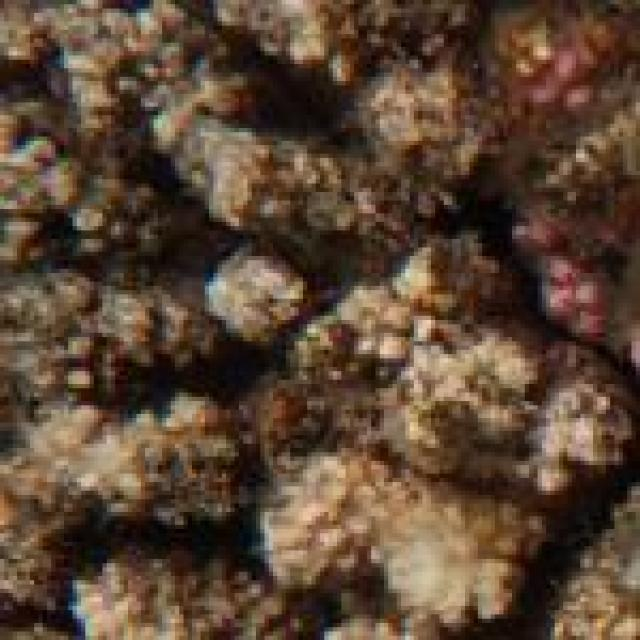Dead Coral: (0, 0, 515, 640)
Healthy Coral: (527, 218, 633, 368), (523, 10, 640, 100)
